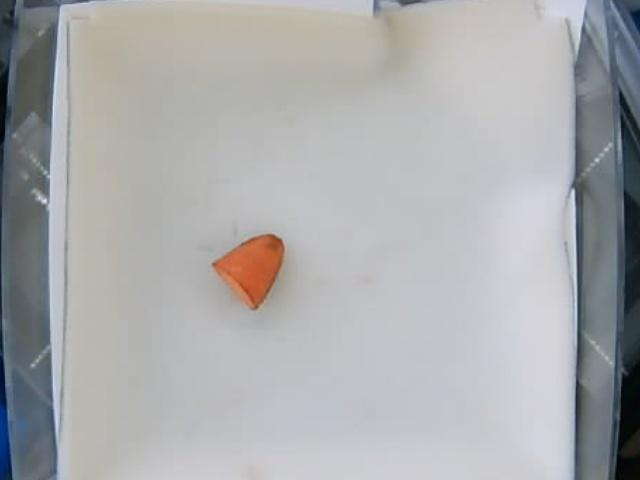Carrot: (210, 233, 285, 310)
